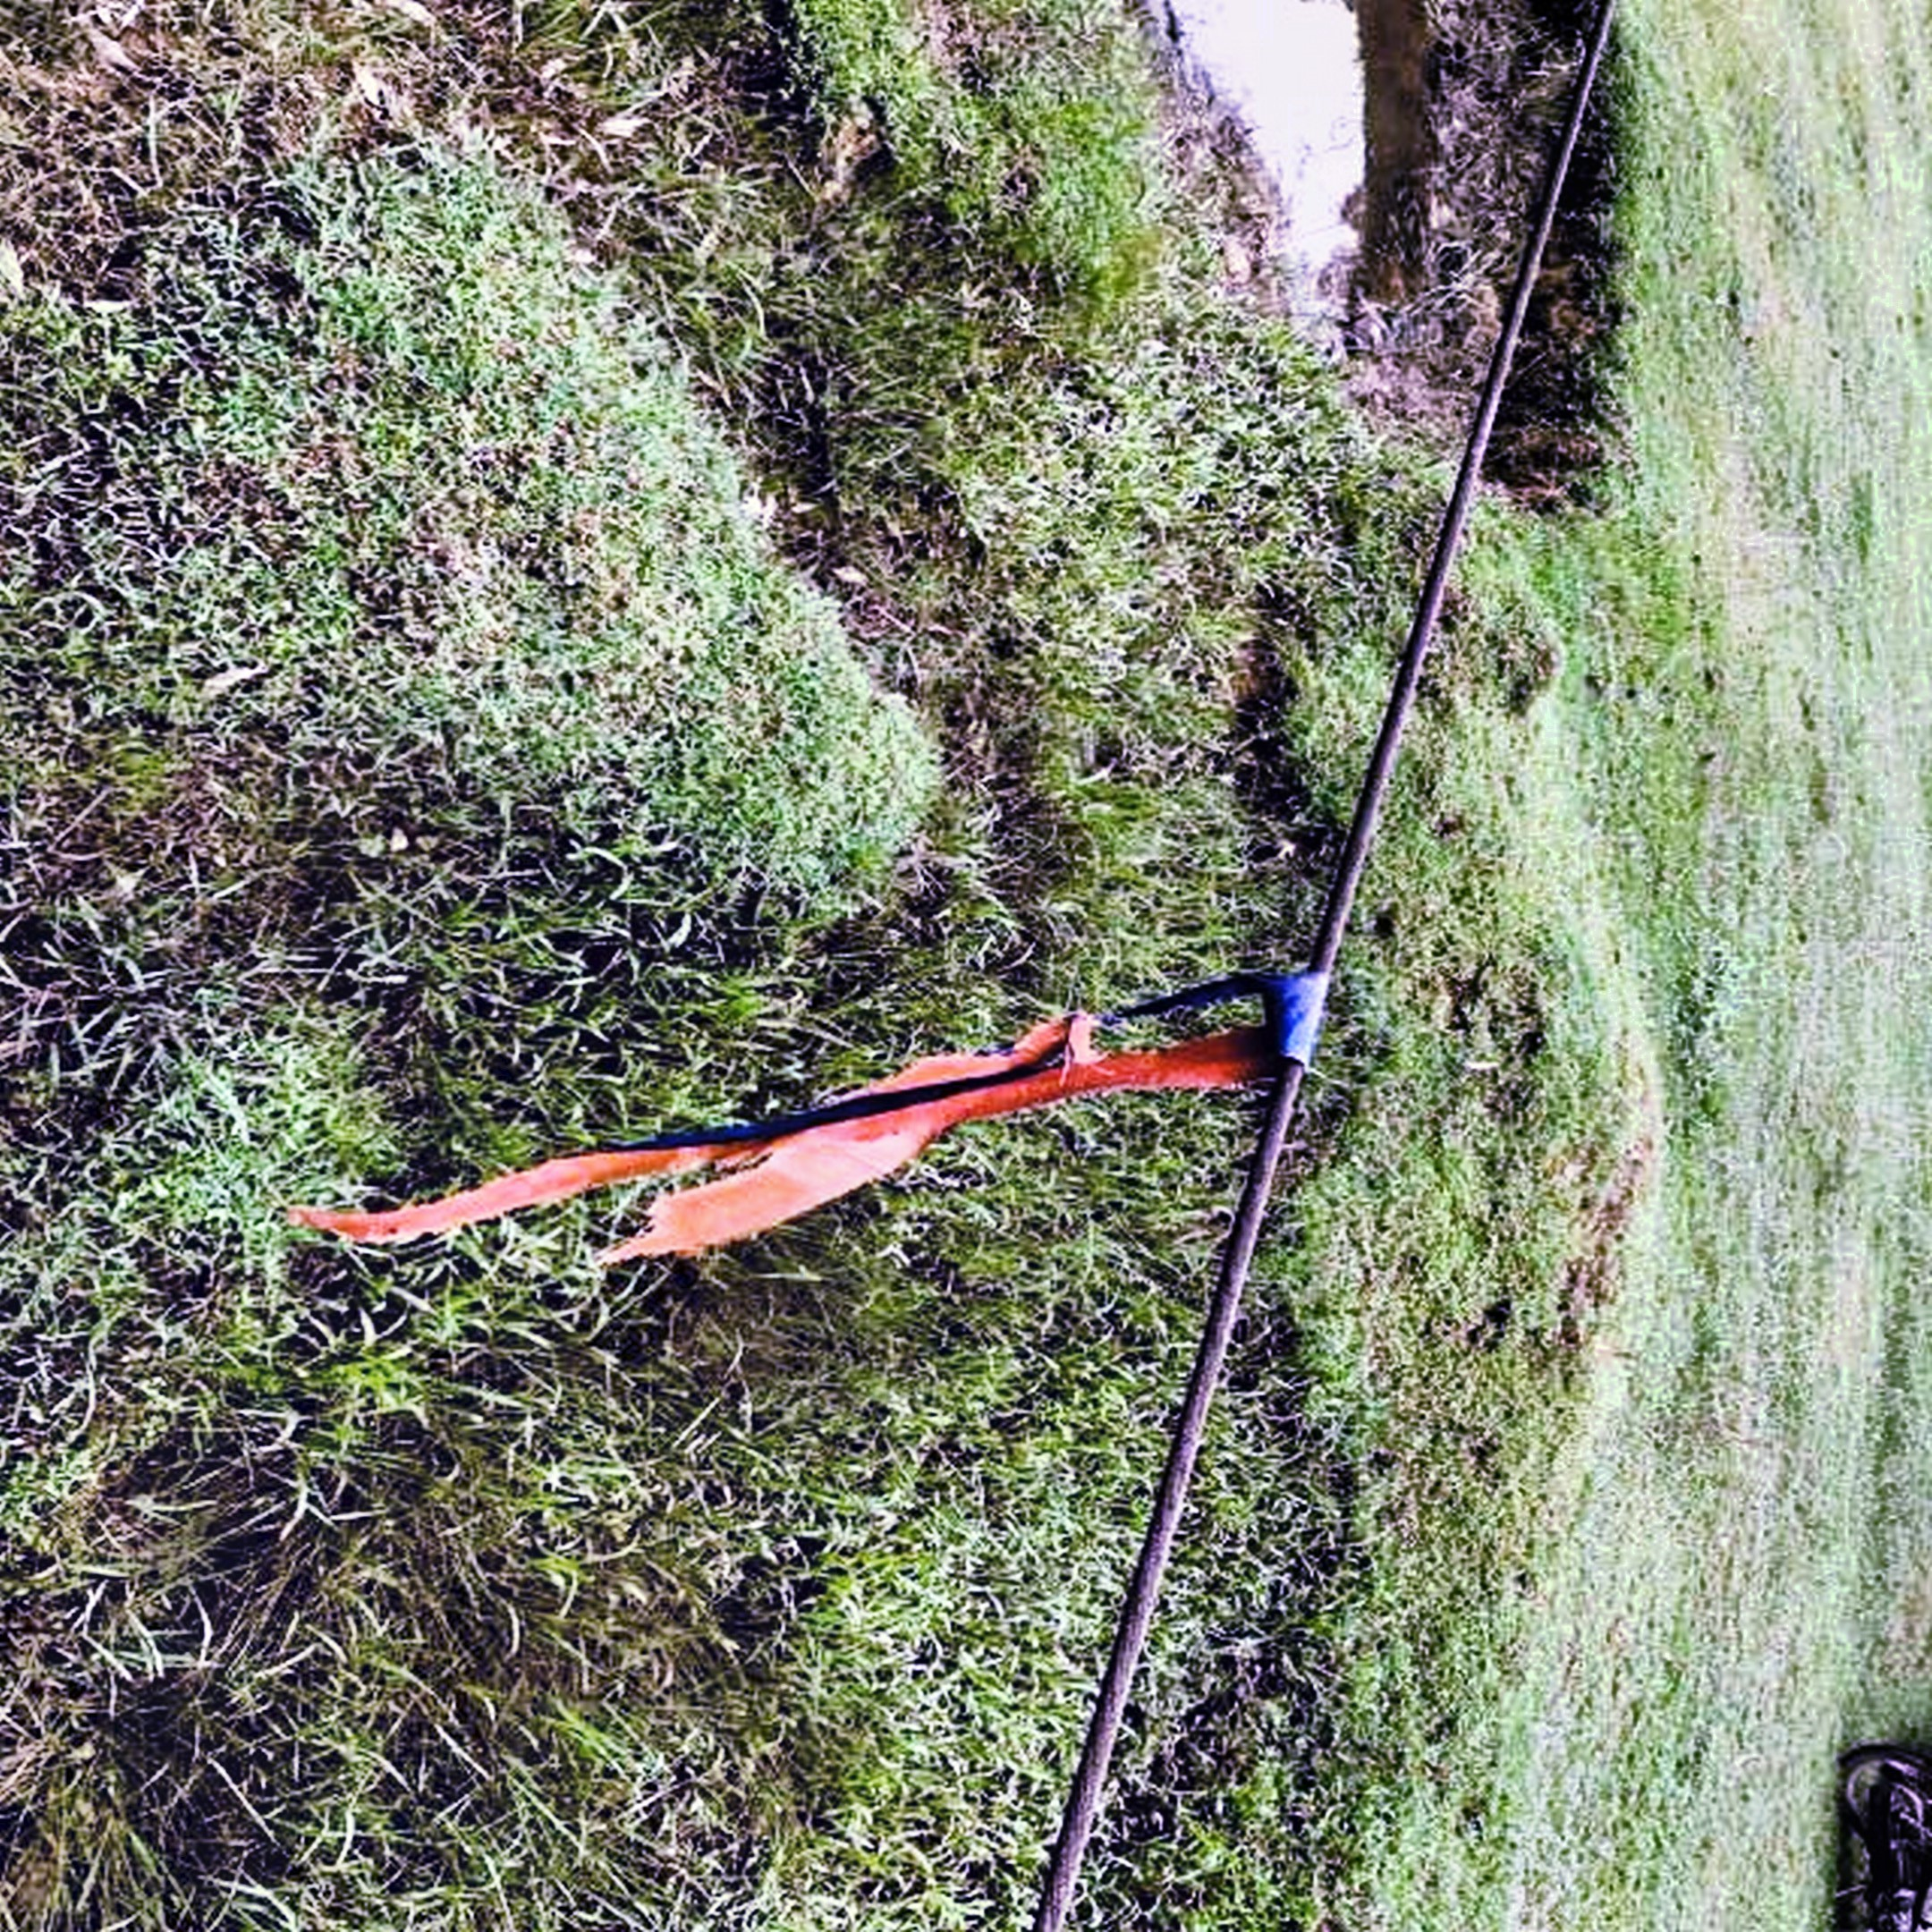wire foreign body: (467, 909, 1352, 1254)
